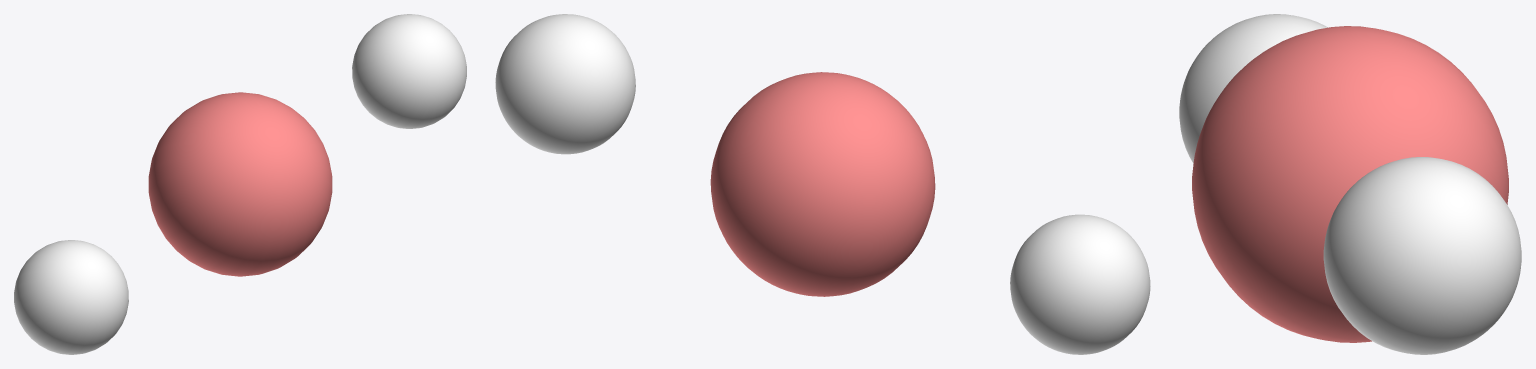
3 views of the same model, side by side, from view 1: azimuth 30°, elevation 25°; view 2: azimuth 150°, elevation 25°; view 3: azimuth 270°, elevation 25° (orthographic). The views are drawn at different scales.
Parts seen in each view (by area): view 1: Oxygen, Hydrogen (×2); view 2: Oxygen, Hydrogen (×2); view 3: Oxygen, Hydrogen (×2).
Part boxes in pixels (left/top/right/bottom): Oxygen: left=148, top=92, right=332, bottom=276; Hydrogen (×2): left=14, top=14, right=466, bottom=354; Oxygen: left=710, top=72, right=935, bottom=296; Hydrogen (×2): left=495, top=14, right=1150, bottom=354; Oxygen: left=1192, top=26, right=1508, bottom=342; Hydrogen (×2): left=1179, top=14, right=1521, bottom=354.
Size of the model in its own units: 4.81 by 1.98 by 1.73.
